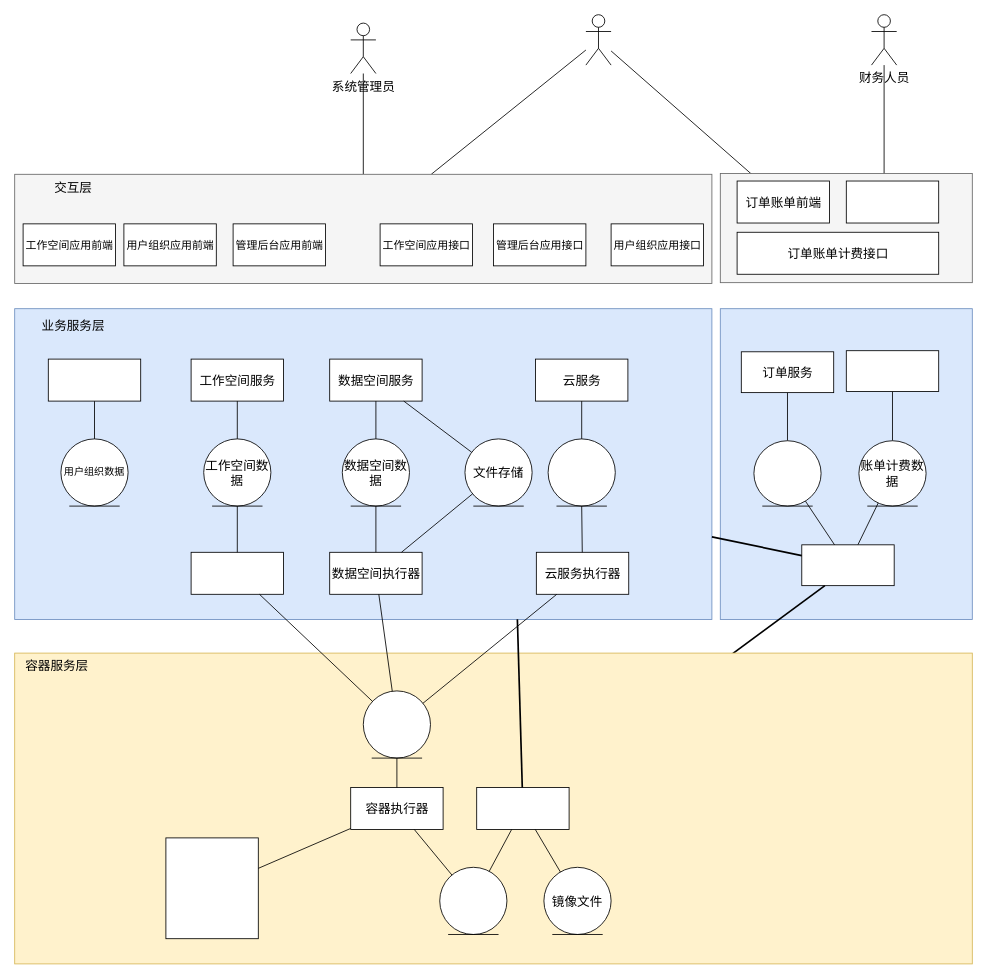
Image size: 987x979. Some labels were removed from this diagram. Each missing label, with the box of its shape:
云服务数据: (547, 438, 615, 506)
容器环境API: (165, 837, 258, 939)
容器镜像数据: (439, 866, 507, 934)
容器镜像服务: (476, 787, 569, 830)
工作空间执行器: (190, 551, 284, 594)
开发者: (585, 14, 611, 65)
异步任务数据: (362, 690, 430, 758)
用户组织服务: (47, 358, 141, 401)
计费计算程序: (801, 544, 894, 586)
订单数据: (753, 440, 821, 506)
财务报表前端: (845, 180, 939, 223)
账单计费服务: (845, 350, 939, 392)
